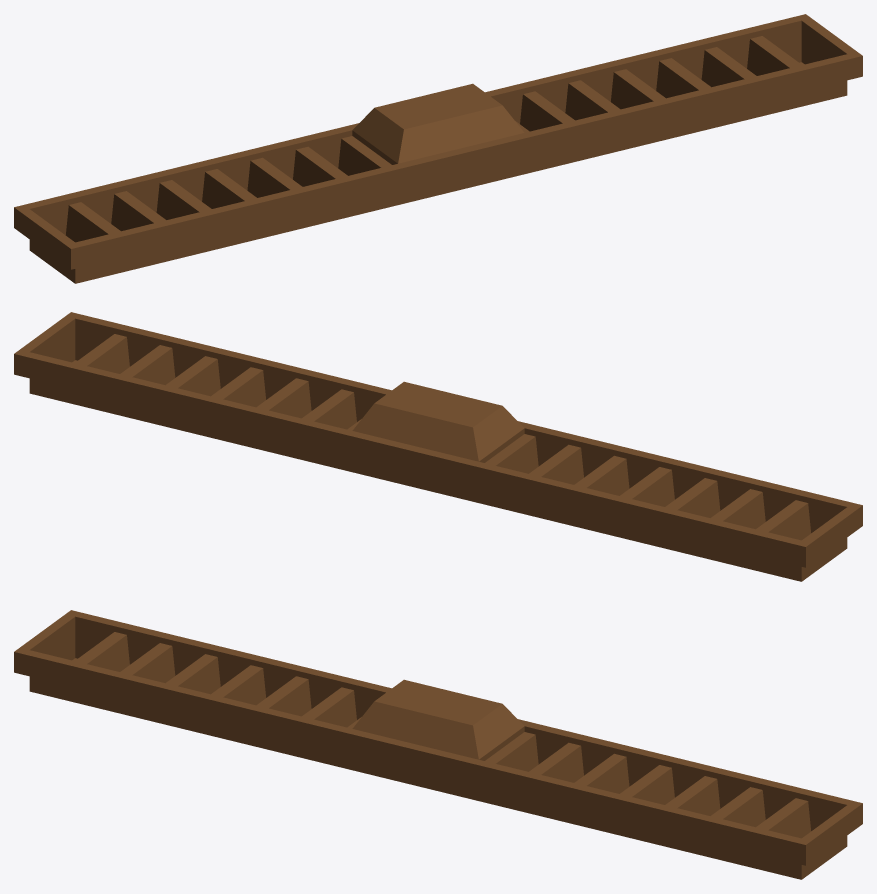
The model's file is Ceiling_B_4x05m.FBX.
3 renders of one model, top to bottom at view 1: azimuth 30°, elevation 25°; view 2: azimuth 150°, elevation 25°; view 3: azimuth 330°, elevation 25°, orthographic.
Parts seen in each view (by area): view 1: Ceiling_B_4x05m; view 2: Ceiling_B_4x05m; view 3: Ceiling_B_4x05m.
Part boxes in pixels (bbox=[...]): Ceiling_B_4x05m: bbox=[14, 14, 862, 283]; Ceiling_B_4x05m: bbox=[14, 312, 862, 581]; Ceiling_B_4x05m: bbox=[14, 610, 862, 879].
Size of the model in its own units: 400 by 32.07 by 50.
